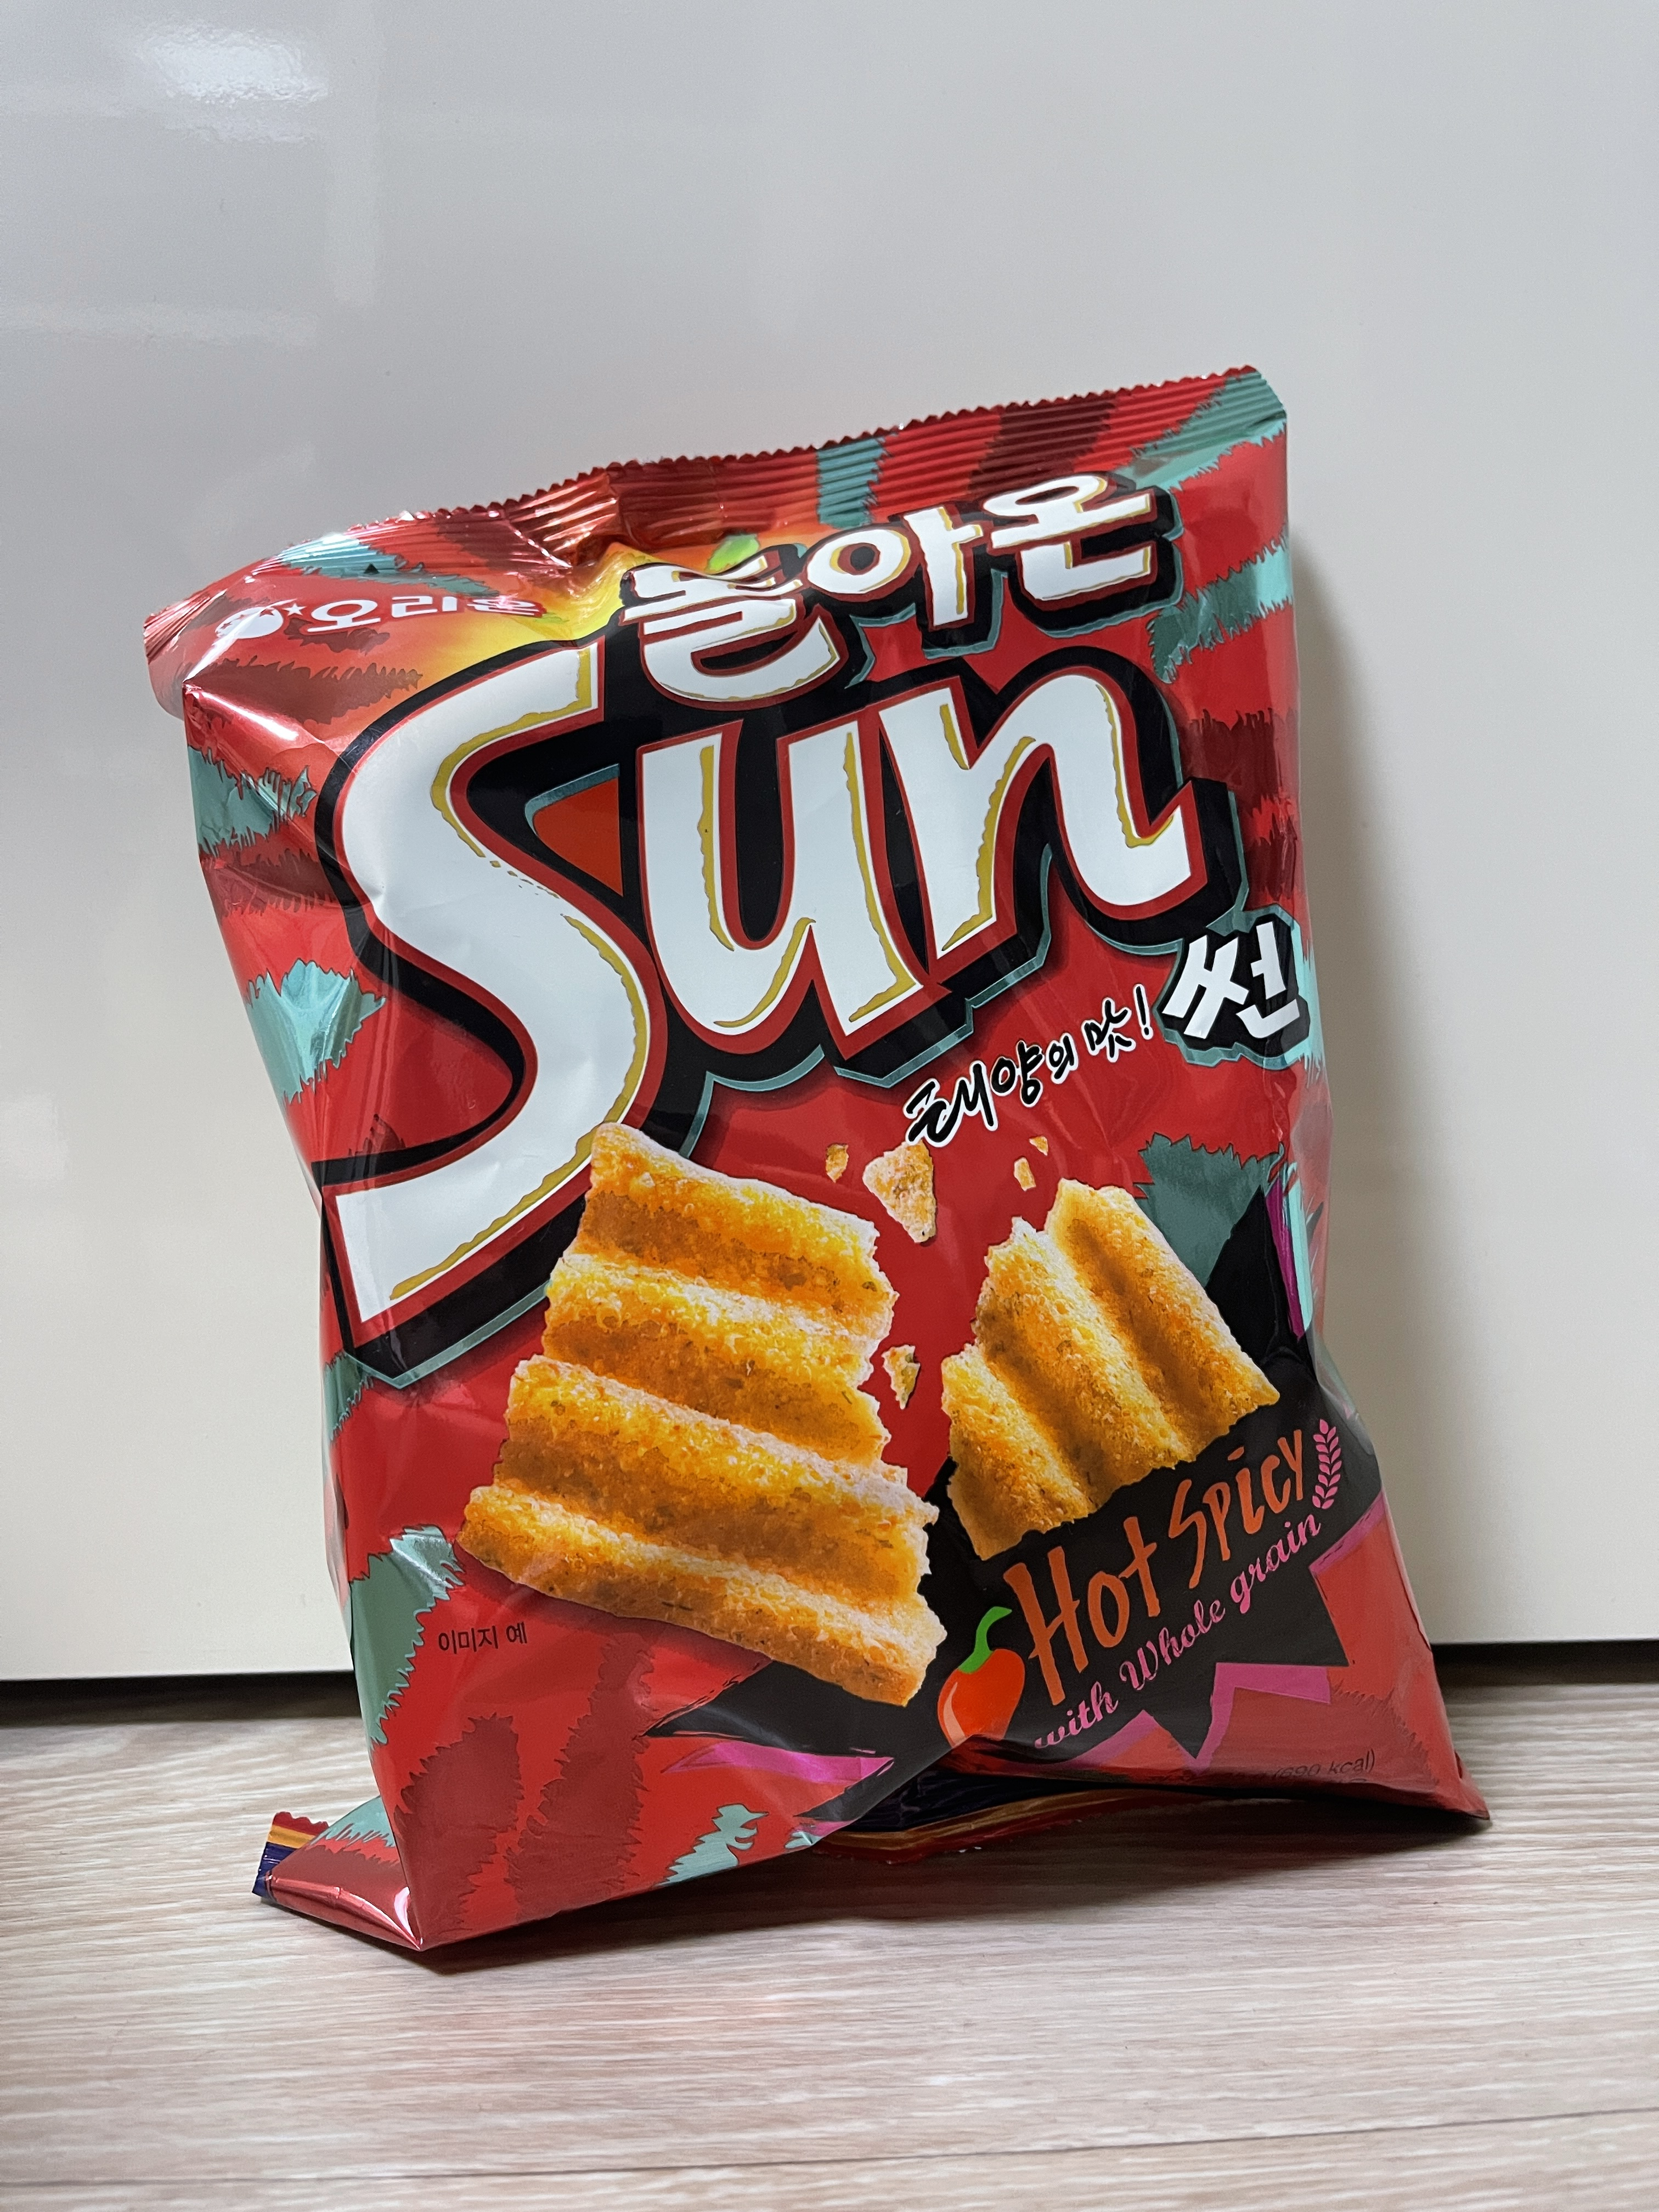snack: (139, 364, 1495, 1972)
